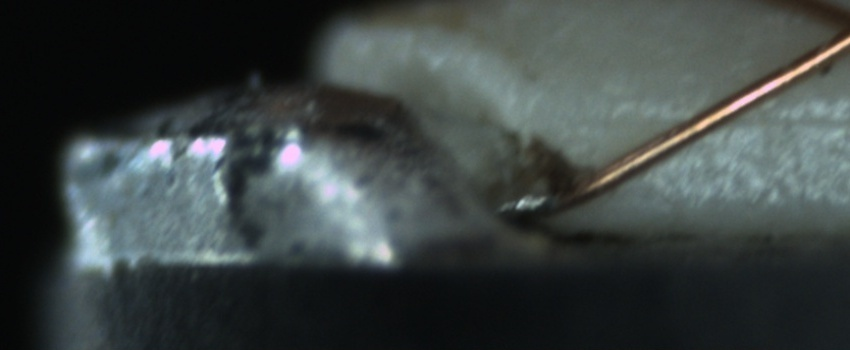DL: (608, 85, 850, 155)
